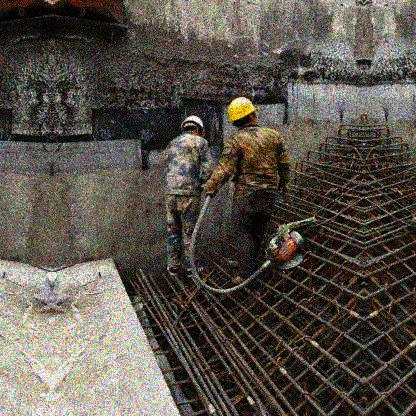helmet: (226, 96, 260, 128), (180, 115, 206, 139)
